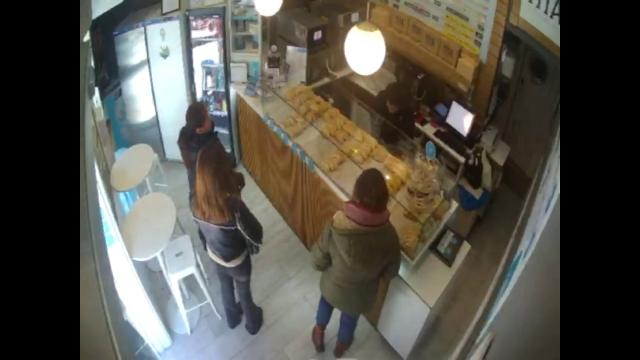cliente: (312, 168, 400, 357), (192, 141, 262, 334), (177, 101, 219, 193)
empleado: (376, 81, 415, 154)
